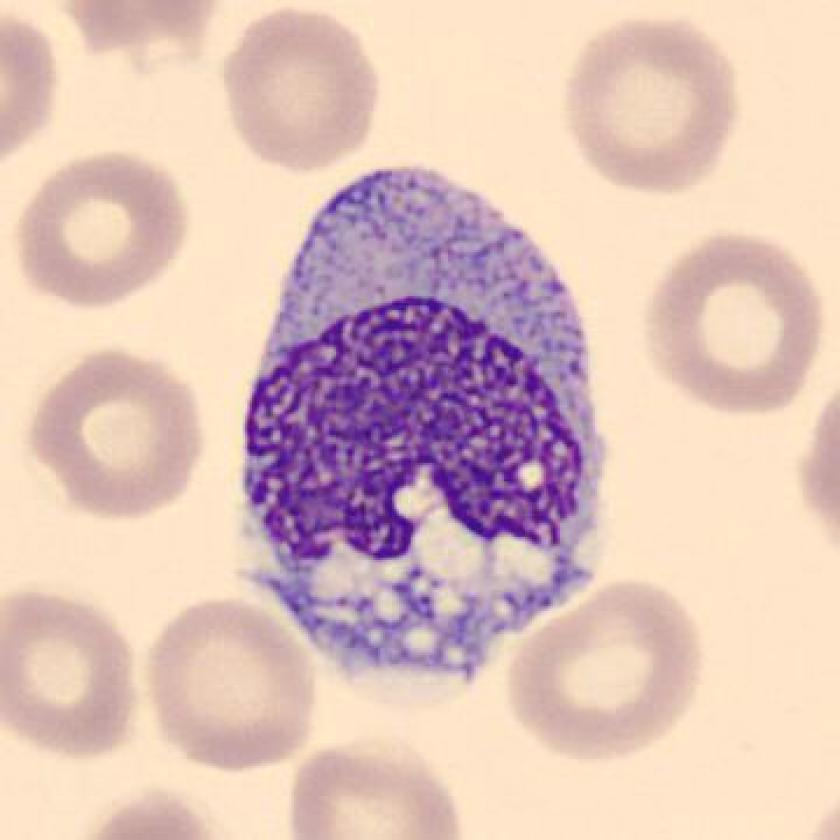monocyte: (221, 147, 627, 707)
